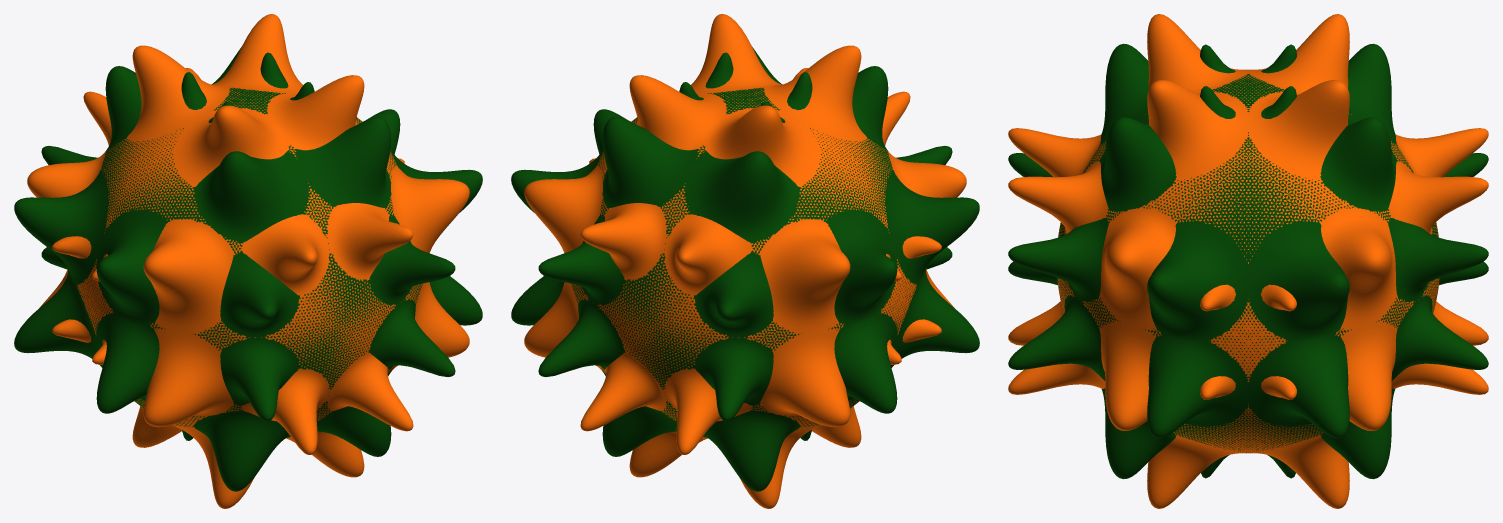
File: xPS_AR2.glb
3 renders of one model, left to right at view 1: azimuth 30°, elevation 25°; view 2: azimuth 150°, elevation 25°; view 3: azimuth 270°, elevation 25°, orthographic. The views are drawn at different scales.
Parts seen in each view (by area): view 1: Icosphere.003, Icosphere.004; view 2: Icosphere.003, Icosphere.004; view 3: Icosphere.004, Icosphere.003.
Boxes of the visible parts, x1,y1,x2,y2 form: Icosphere.003: (27,14,469,508); Icosphere.004: (14,47,482,491); Icosphere.003: (524,14,966,508); Icosphere.004: (511,47,979,491); Icosphere.004: (1008,43,1488,479); Icosphere.003: (1008,14,1488,508).
Size of what is drawn, in the model's own units: 0.349 by 0.349 by 0.3568.
